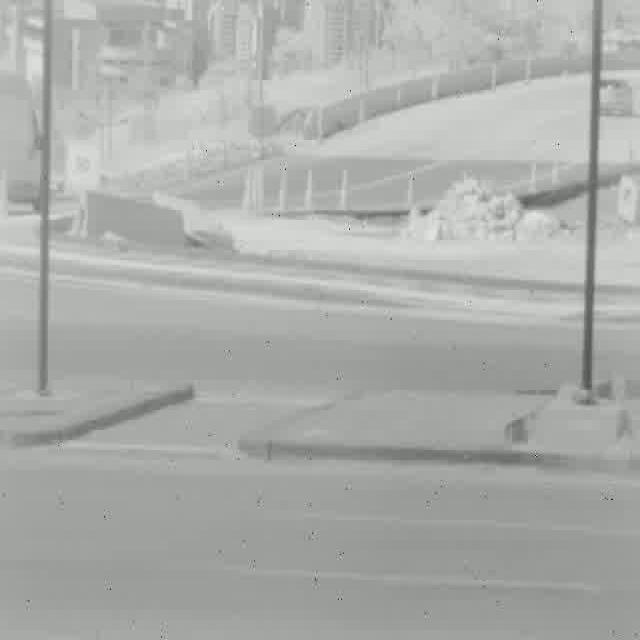Car: (599, 77, 632, 114)
